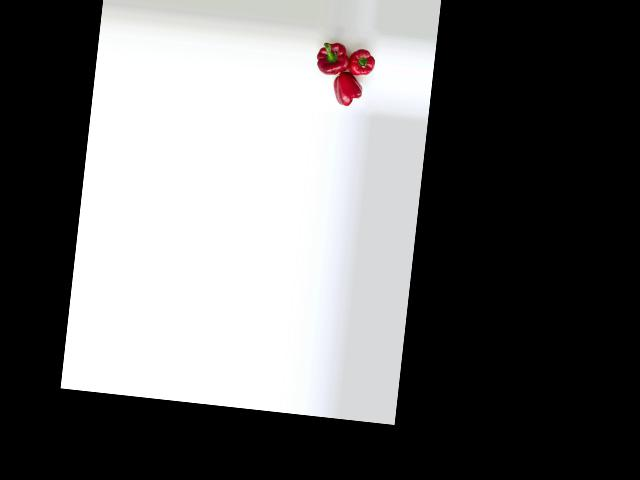bell_pepper: (328, 69, 369, 112)
